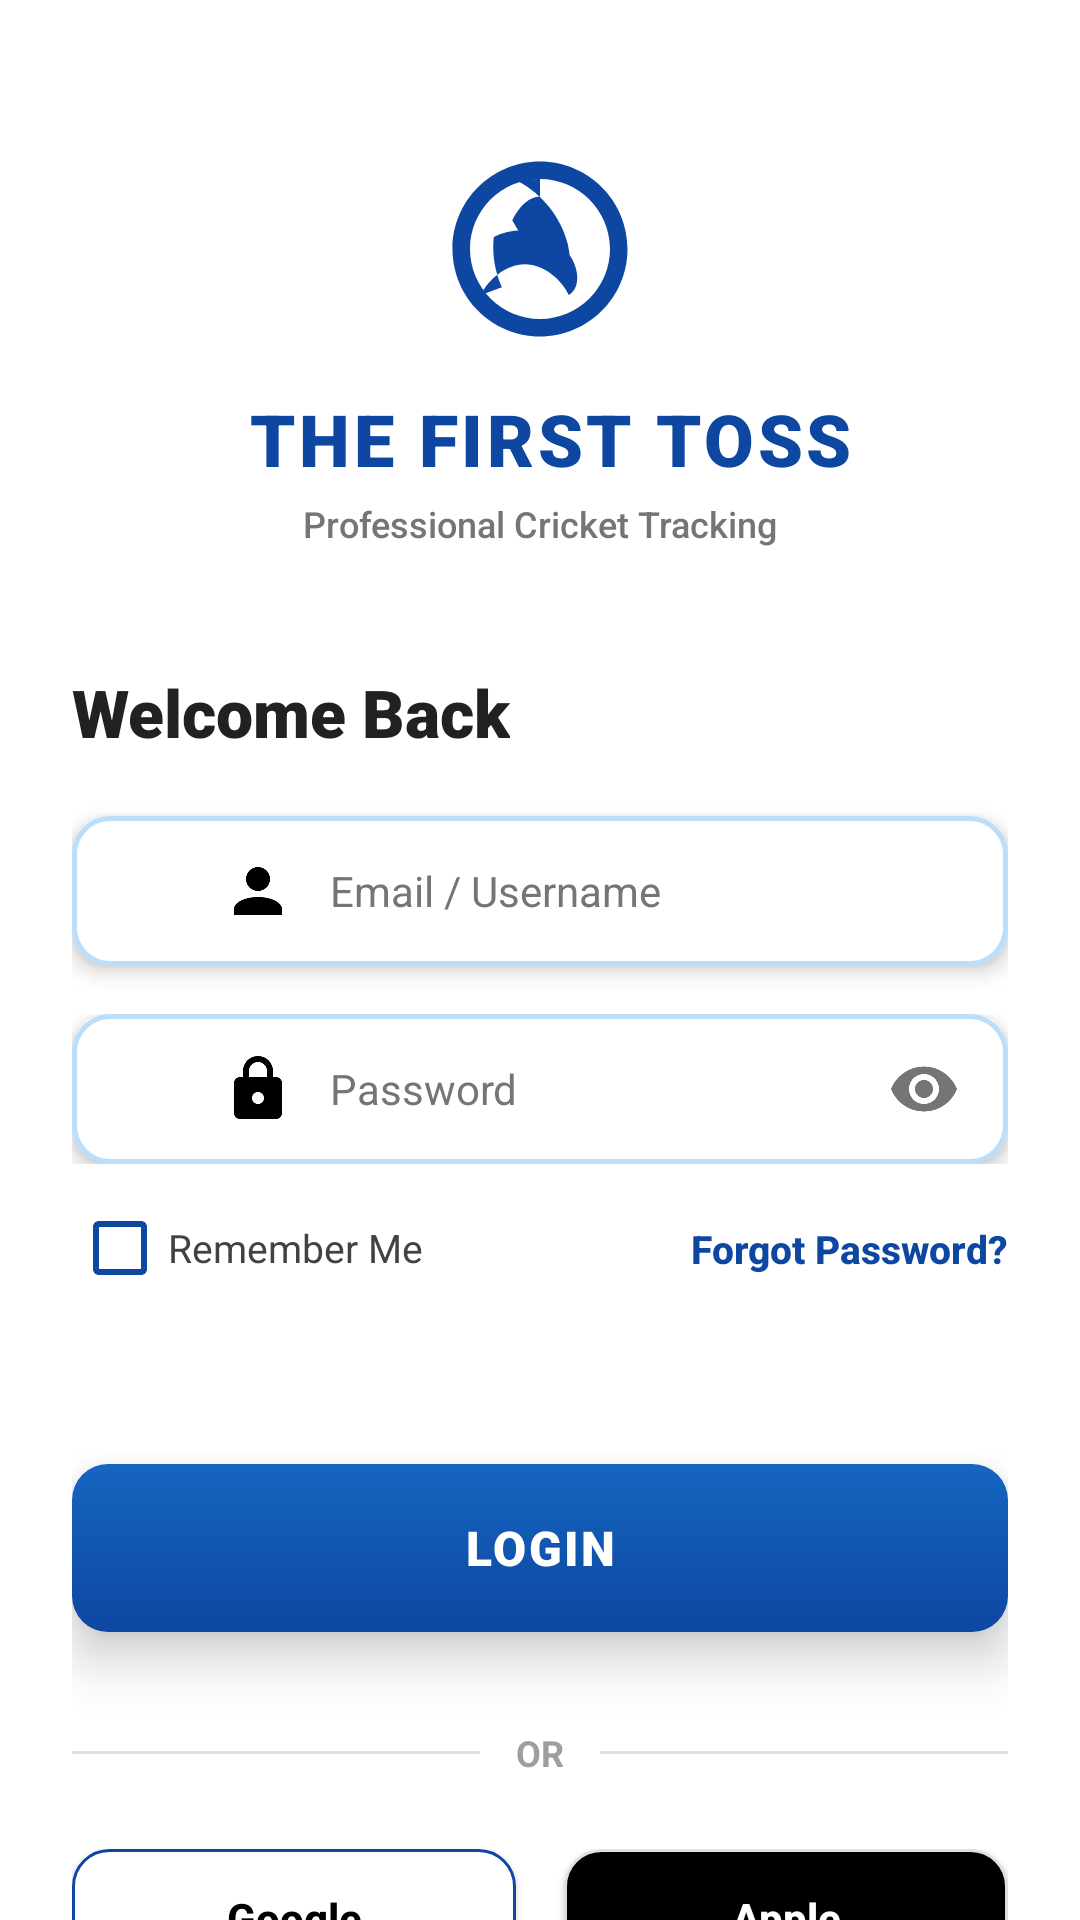

Where to tap for icons on this 1080×1920 app screen, as [x,y]:
eye: [924,1089]
